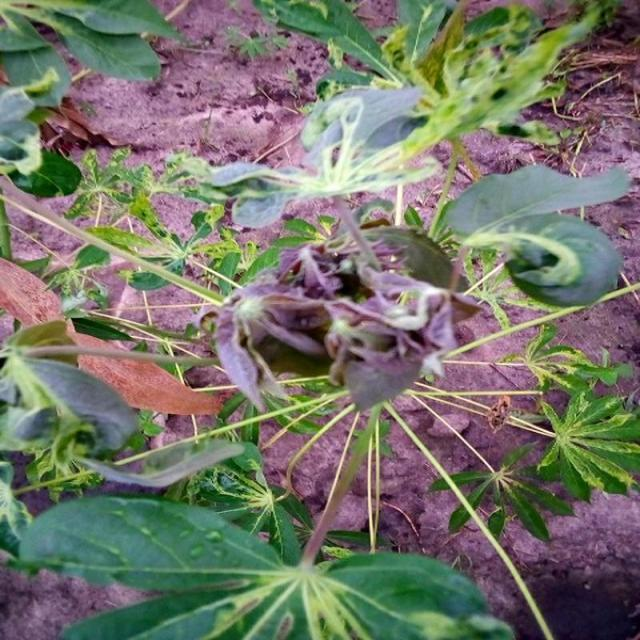cassava leaf: (18, 492, 512, 638), (502, 210, 624, 308)
